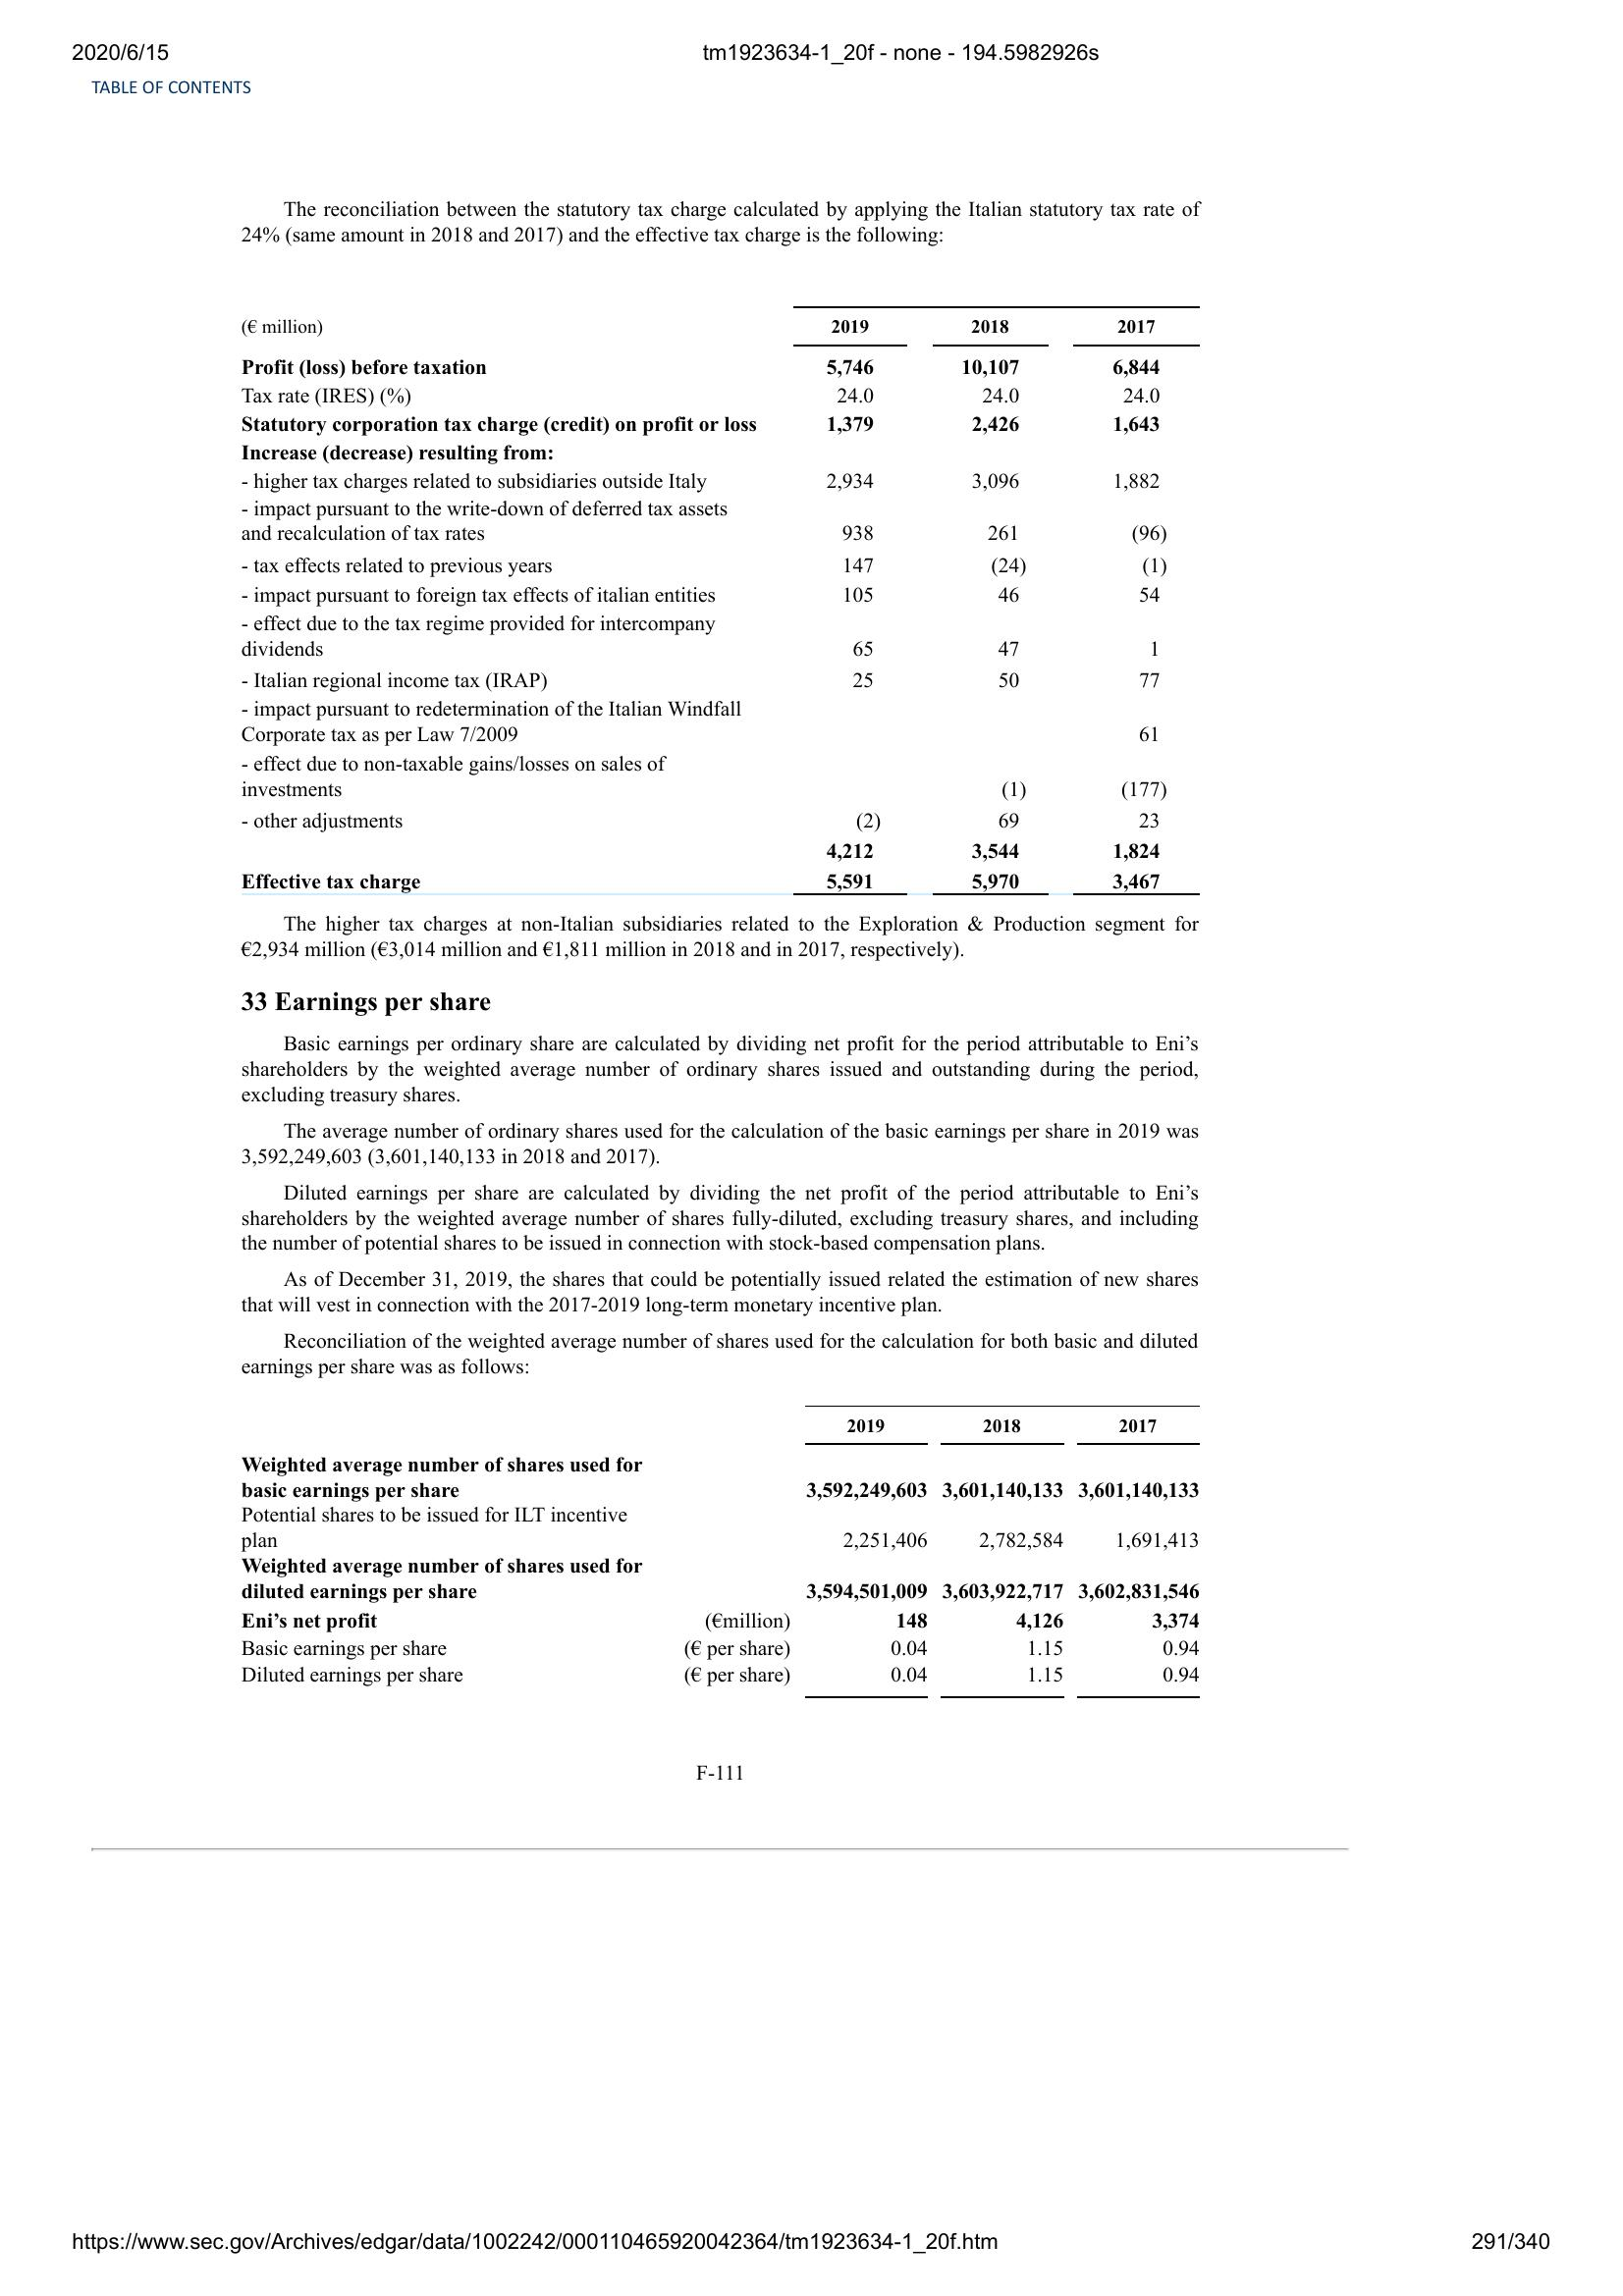table: (235, 297, 1208, 899), (234, 1397, 1208, 1706)
